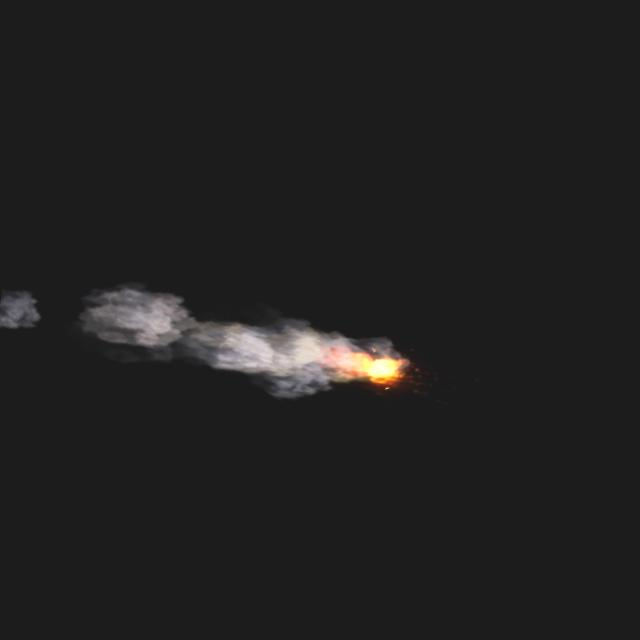fire: (350, 350, 418, 395)
smoke: (73, 284, 404, 414)
